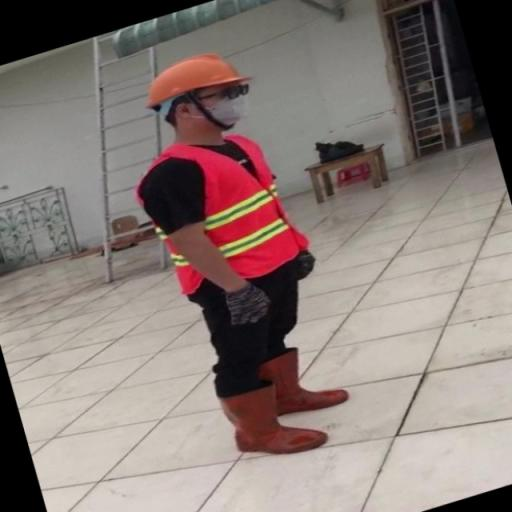Person: (91, 43, 380, 473)
gloves: (226, 281, 272, 329), (275, 242, 320, 279)
